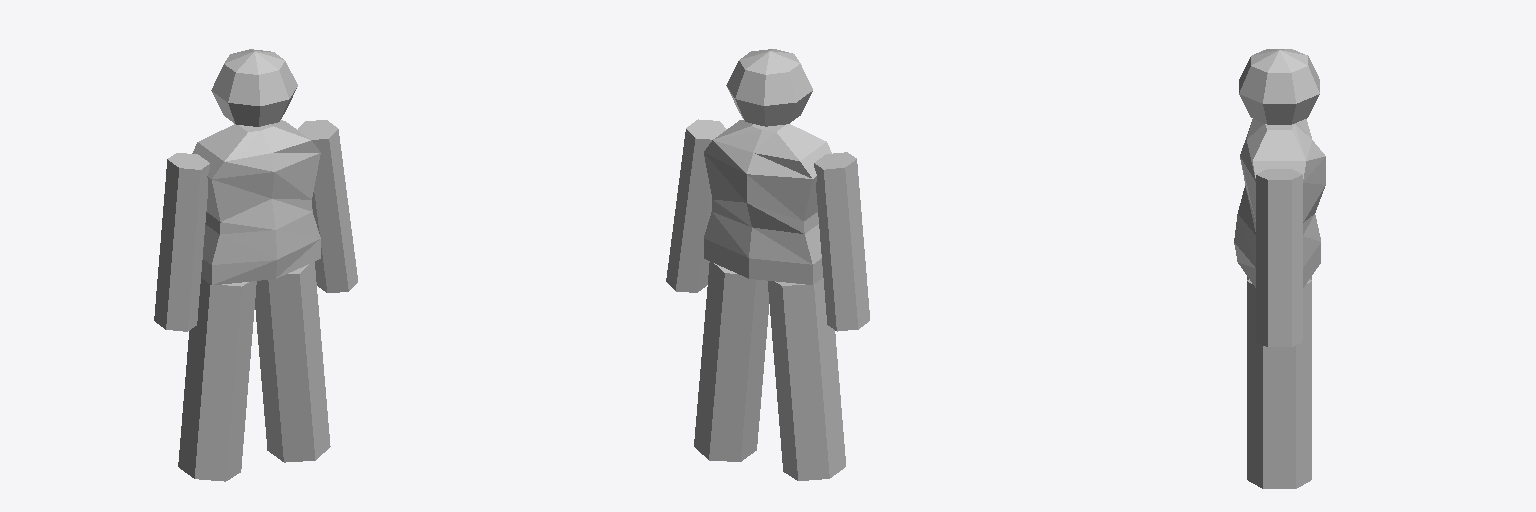
Rendered from guardian_base.obj.
The picture shows the model from 3 angles: view 1: azimuth 30°, elevation 25°; view 2: azimuth 150°, elevation 25°; view 3: azimuth 270°, elevation 25°; orthographic projection.
Parts seen in each view (by area): view 1: right_arm, torso, sphere; view 2: right_arm, torso, sphere; view 3: right_arm, torso, sphere.
Boxes of the visible parts, x1,y1,x2,y2 form: right_arm: [154, 120, 357, 481]; torso: [192, 120, 320, 284]; sphere: [211, 49, 297, 126]; right_arm: [666, 119, 869, 480]; torso: [704, 120, 831, 284]; sphere: [726, 49, 812, 126]; right_arm: [1247, 169, 1311, 488]; torso: [1234, 119, 1325, 287]; sphere: [1239, 49, 1319, 124].
Bounding box in the file's own units: 0.7703 × 1.57 × 0.319.